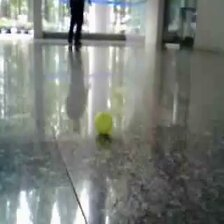tennis: (95, 112, 113, 134)
